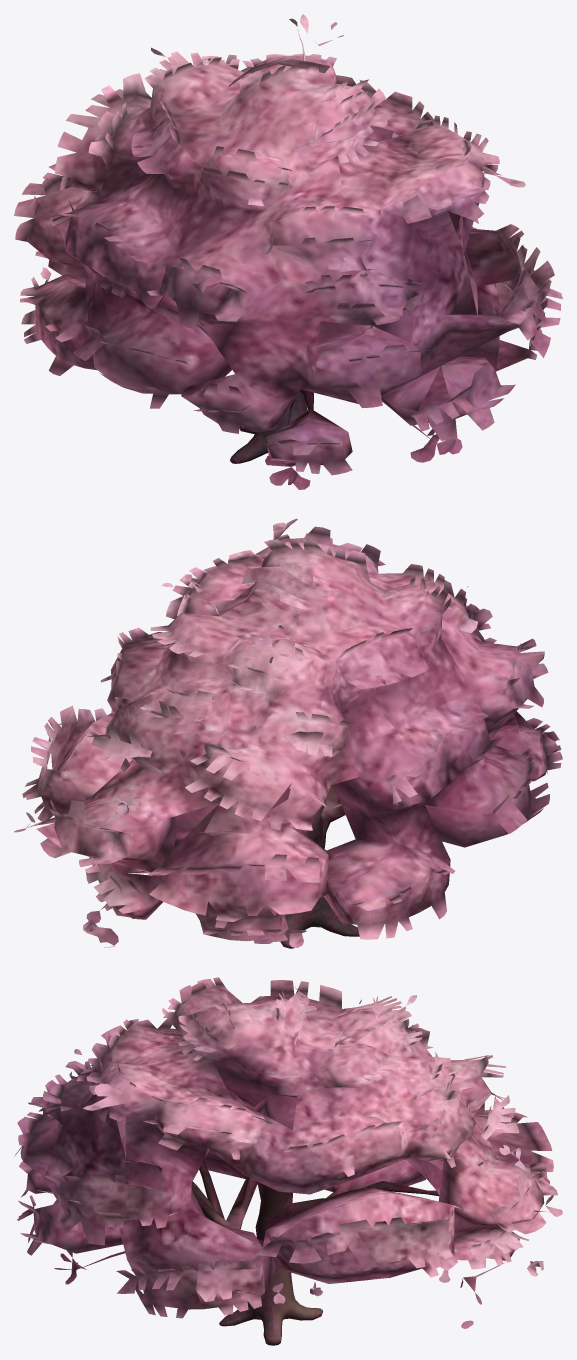
File: tree_cherry.glb
The picture shows the model from 3 angles, top to bottom: view 1: azimuth 30°, elevation 25°; view 2: azimuth 150°, elevation 25°; view 3: azimuth 270°, elevation 25°; orthographic projection. The views are drawn at different scales.
Bounding box in the file's own units: 6.79 × 5.63 × 8.42.
Materials: 1 (1 with a texture image).
